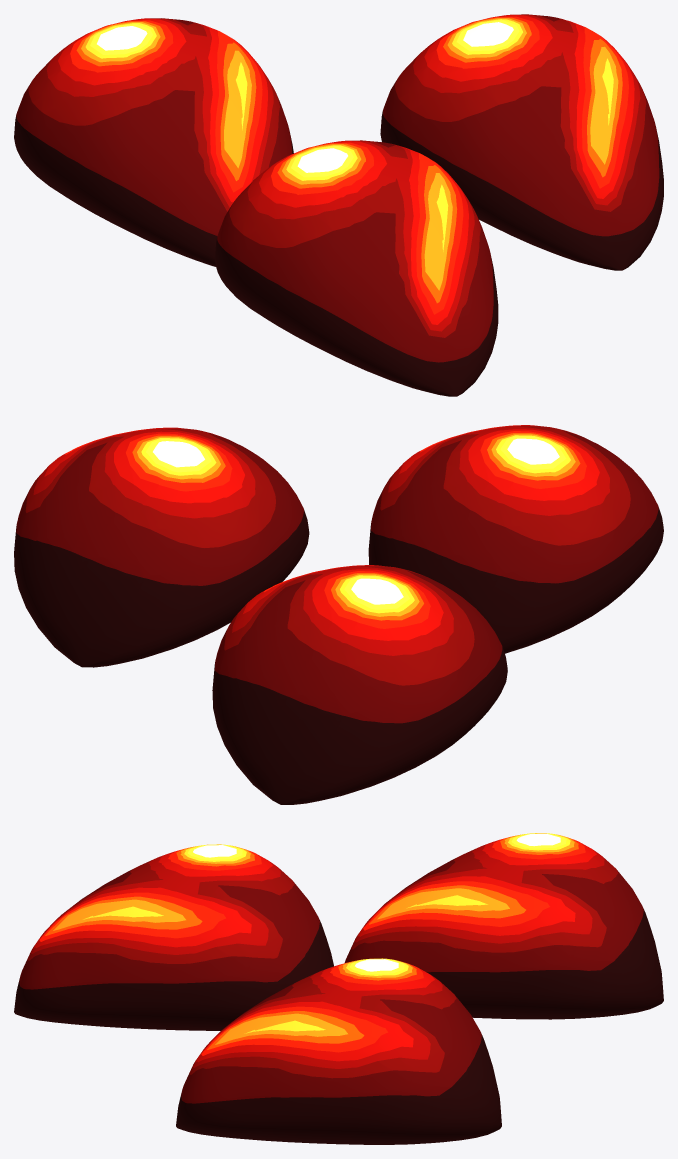
Rendered from drops_279.glb.
3 views of the same model, one above another, from view 1: azimuth 30°, elevation 25°; view 2: azimuth 150°, elevation 25°; view 3: azimuth 270°, elevation 25° (orthographic). The views are drawn at different scales.
Parts seen in each view (by area): view 1: drops_279; view 2: drops_279; view 3: drops_279.
Boxes of the visible parts, box(x1,y1,x2,y2) form: drops_279: box(14, 14, 663, 396); drops_279: box(14, 425, 663, 804); drops_279: box(14, 833, 663, 1144).
Bounding box in the file's own units: 20.01 × 6.26 × 24.09.
